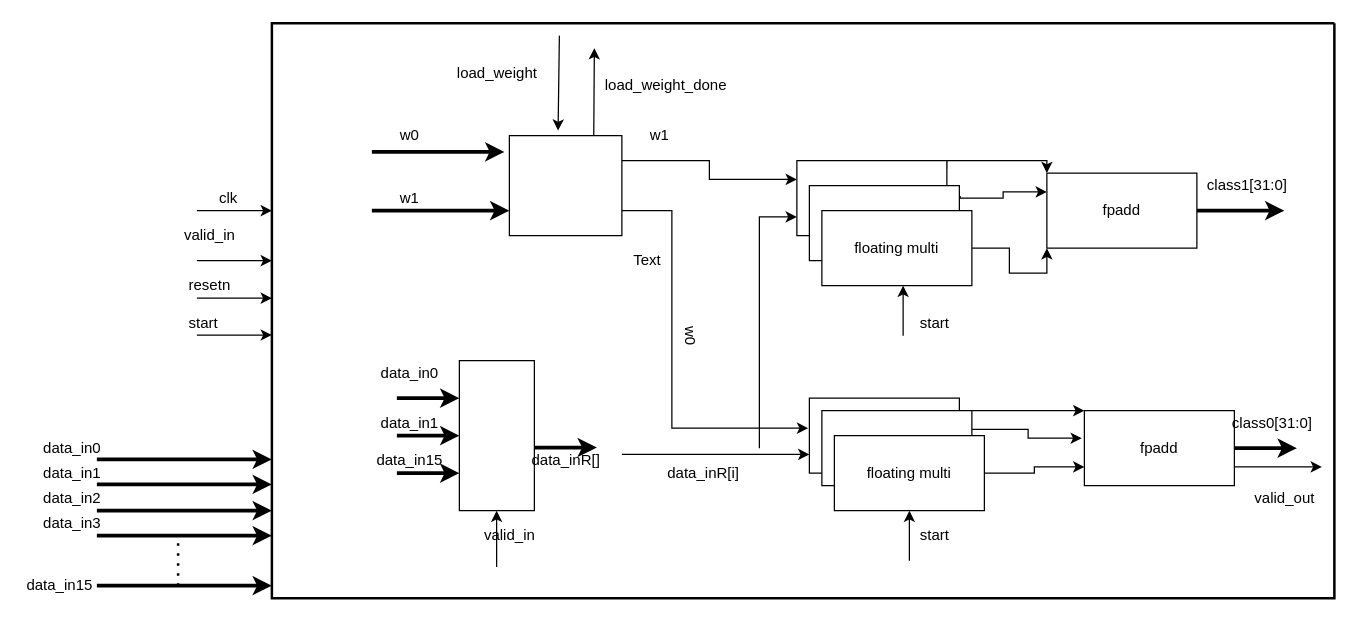
Some shapes in this 1358 by 621 pixel diagram are drawn without their labels. The centre of each missing label's shape, as x and y in pixels:
reg: the point at 496,435
StroreWeight: the point at 565,185
